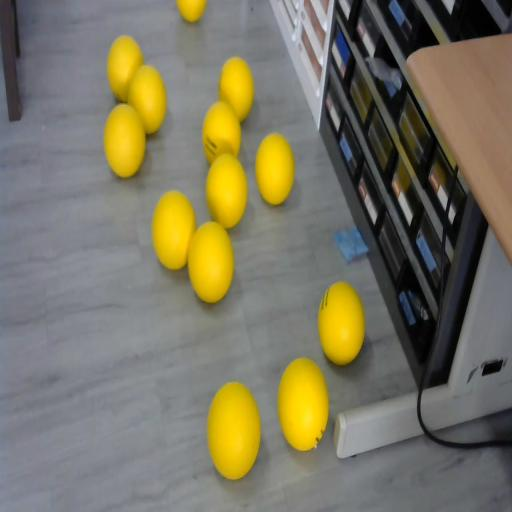FUEL: (206, 380, 260, 478), (276, 356, 330, 450), (317, 280, 365, 365), (187, 220, 234, 303), (151, 189, 197, 270), (205, 153, 248, 228), (104, 103, 146, 178), (254, 132, 294, 205), (107, 35, 144, 102), (218, 56, 255, 122), (176, 0, 207, 23)
